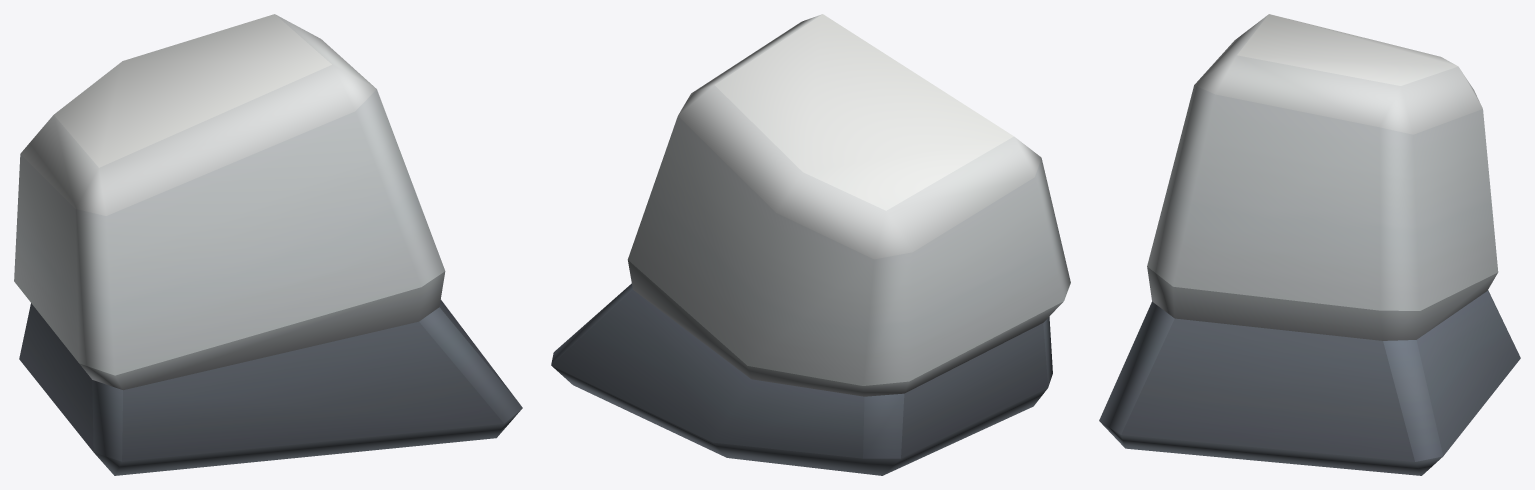
File: rock_snow_07.fbx
3 views of the same model, side by side, from view 1: azimuth 30°, elevation 25°; view 2: azimuth 150°, elevation 25°; view 3: azimuth 270°, elevation 25° (orthographic). The views are drawn at different scales.
Visible parts, largest first — view 1: rock_snow_07; view 2: rock_snow_07; view 3: rock_snow_07.
Part boxes in pixels (left/top/right/bottom): rock_snow_07: left=14, top=14, right=522, bottom=475; rock_snow_07: left=551, top=14, right=1070, bottom=475; rock_snow_07: left=1099, top=14, right=1520, bottom=475.
Size of the model in its own units: 72.55 by 56.17 by 62.55.
